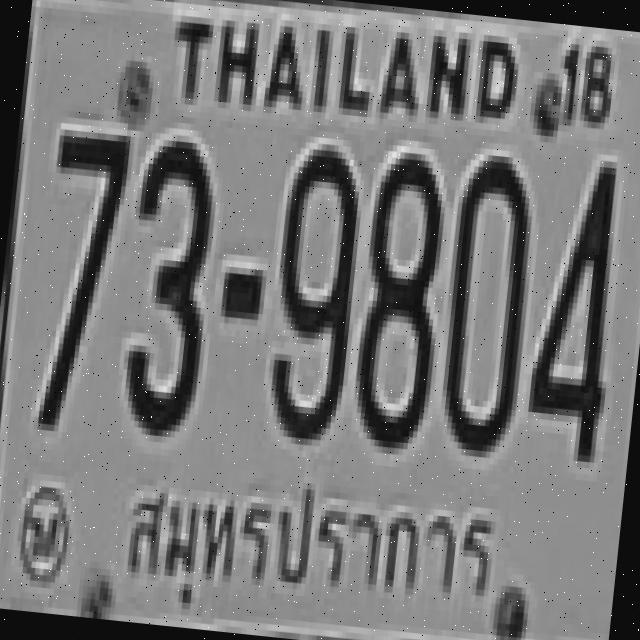0: (260, 140, 365, 442), (432, 152, 537, 453)
3: (112, 131, 218, 432)
4: (522, 152, 628, 459)
7: (27, 125, 129, 432), (31, 126, 129, 394), (39, 122, 129, 324)
8: (347, 150, 452, 450)
9: (260, 140, 365, 442)
SamutPrakan: (98, 444, 511, 634)
